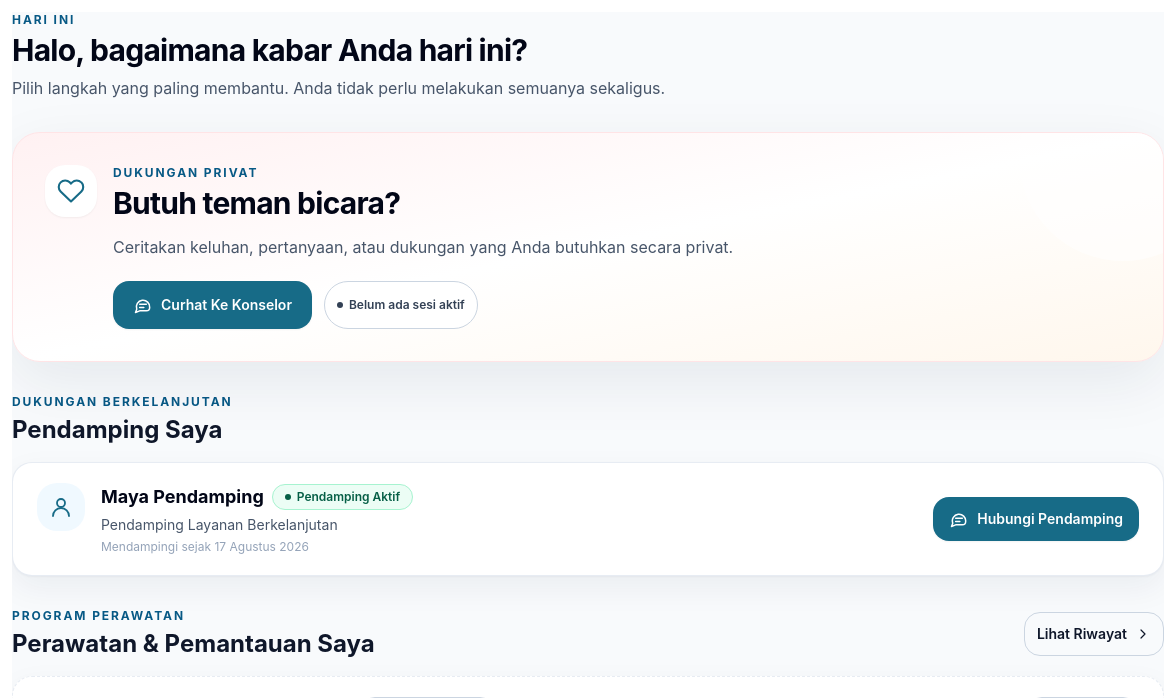
AG-03 Frontend: Companion-Aware Consultation Routing & Care Conversation Bridge › Patient UI: PatientDashboard Companion Routing › displays safe error message when connecting to companion fails
What coordinates should you click on to do the following:
click the button "Hubungi Pendamping"
I would click on:
 (1036, 519)
Its box is [933,497,1139,541].
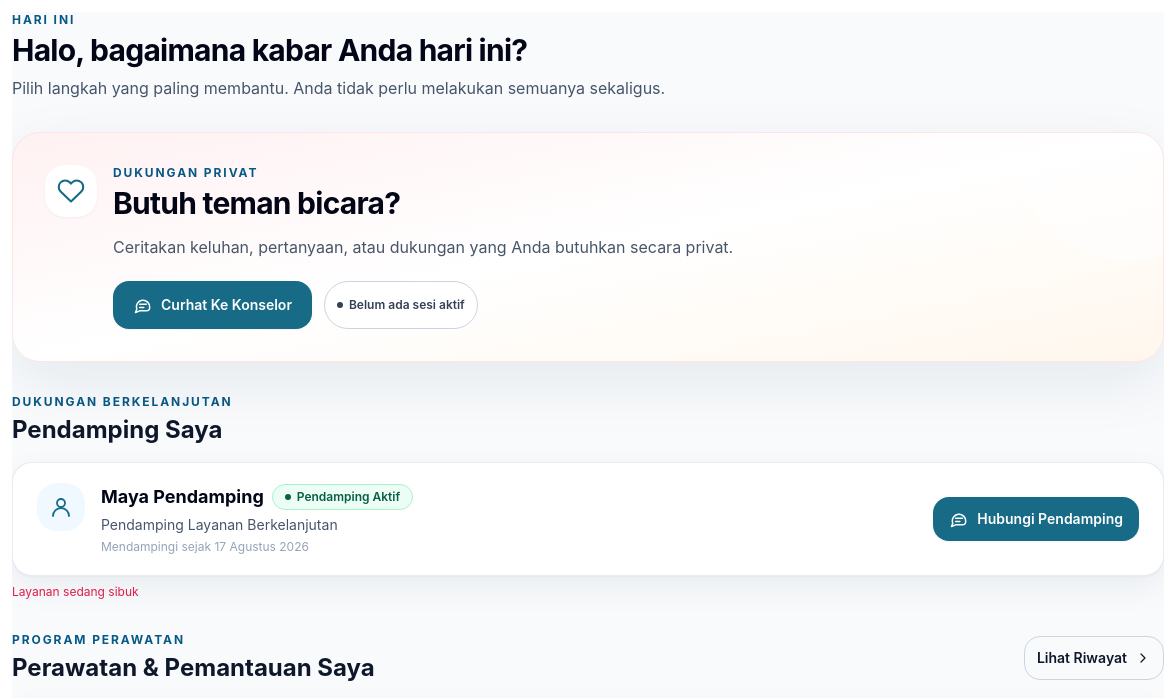
Expected: the message "Layanan sedang sibuk" is shown, [12,584,139,599]
